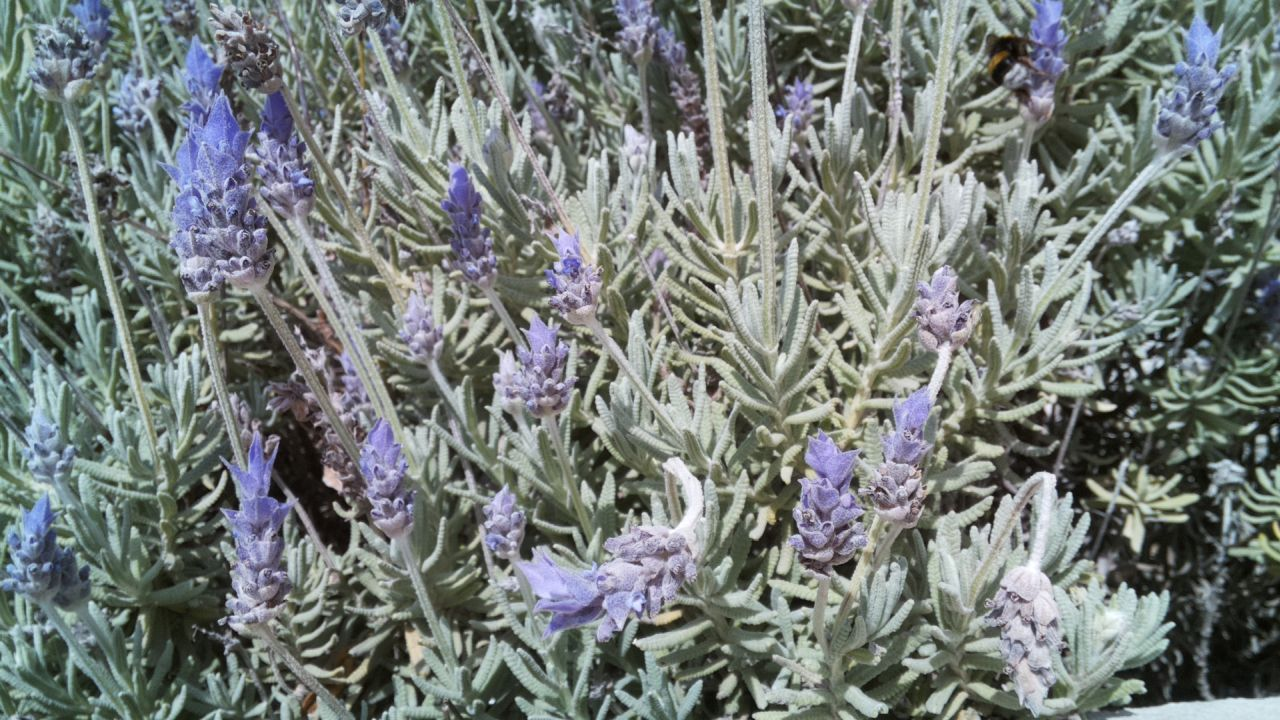Bombus terrestris: (966, 30, 1076, 114)
